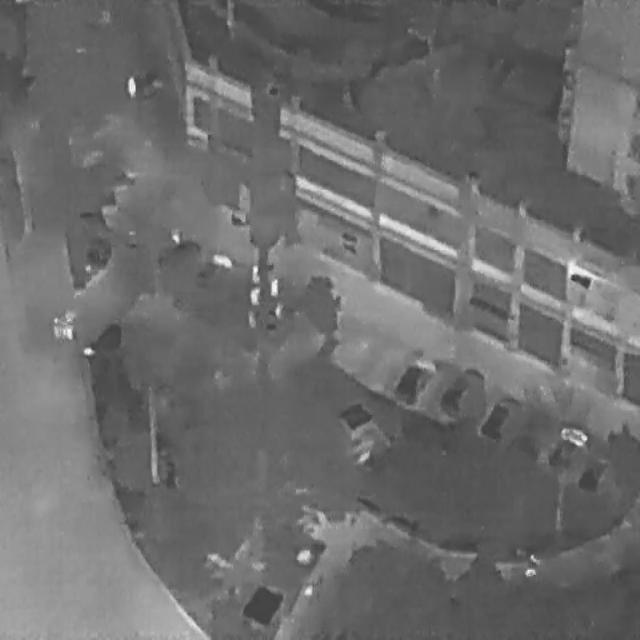Car: (435, 355, 488, 426), (390, 344, 442, 414), (474, 381, 525, 450), (541, 412, 591, 480), (573, 446, 613, 500)
Person: (48, 315, 62, 339), (125, 73, 136, 99), (63, 314, 74, 338)
